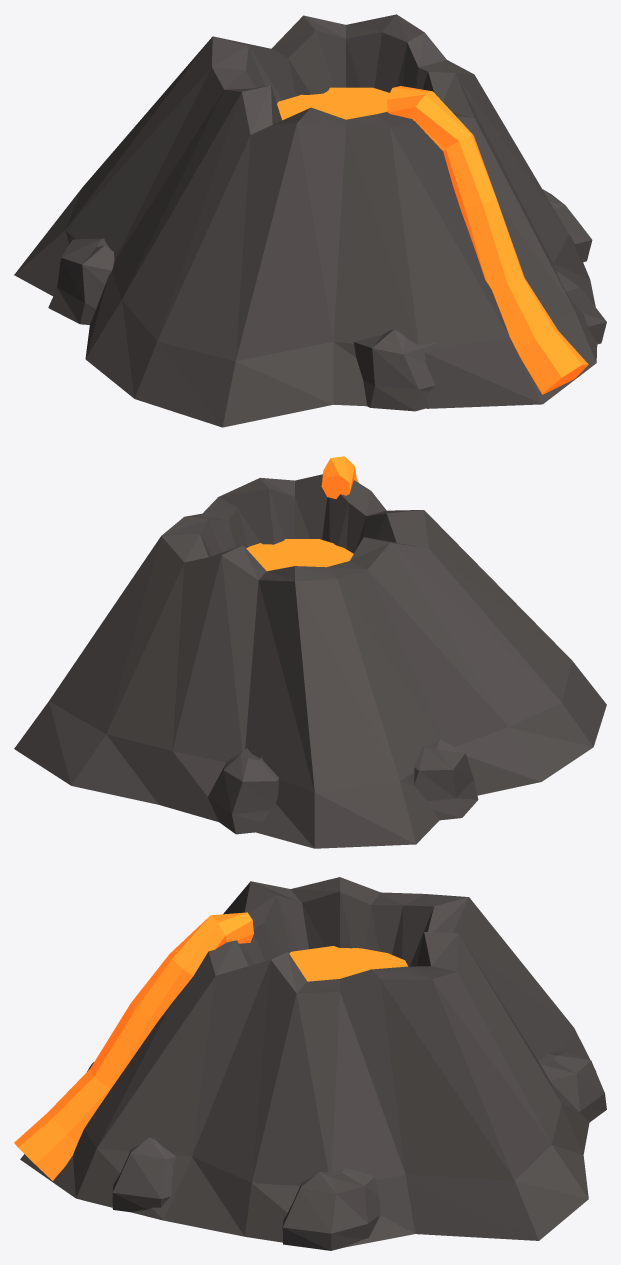
File: active-volcano.glb
The picture shows the model from 3 angles, top to bottom: view 1: azimuth 30°, elevation 25°; view 2: azimuth 150°, elevation 25°; view 3: azimuth 270°, elevation 25°; orthographic projection. The views are drawn at different scales.
Parts seen in each view (by area): view 1: active-volcano; view 2: active-volcano; view 3: active-volcano.
Part boxes in pixels (<box>): active-volcano: <box>14,14,606,427</box>; active-volcano: <box>14,456,606,848</box>; active-volcano: <box>14,877,606,1250</box>.
Bounding box in the file's own units: 6.38 × 3.11 × 6.81.
